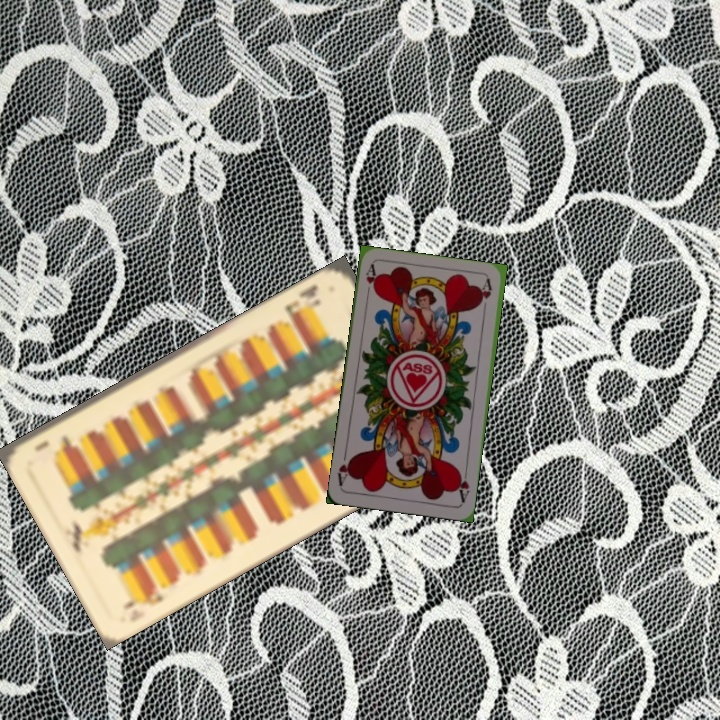E10: (280, 281, 324, 324), (118, 582, 167, 612)
HA: (453, 464, 472, 505), (362, 261, 380, 302)
